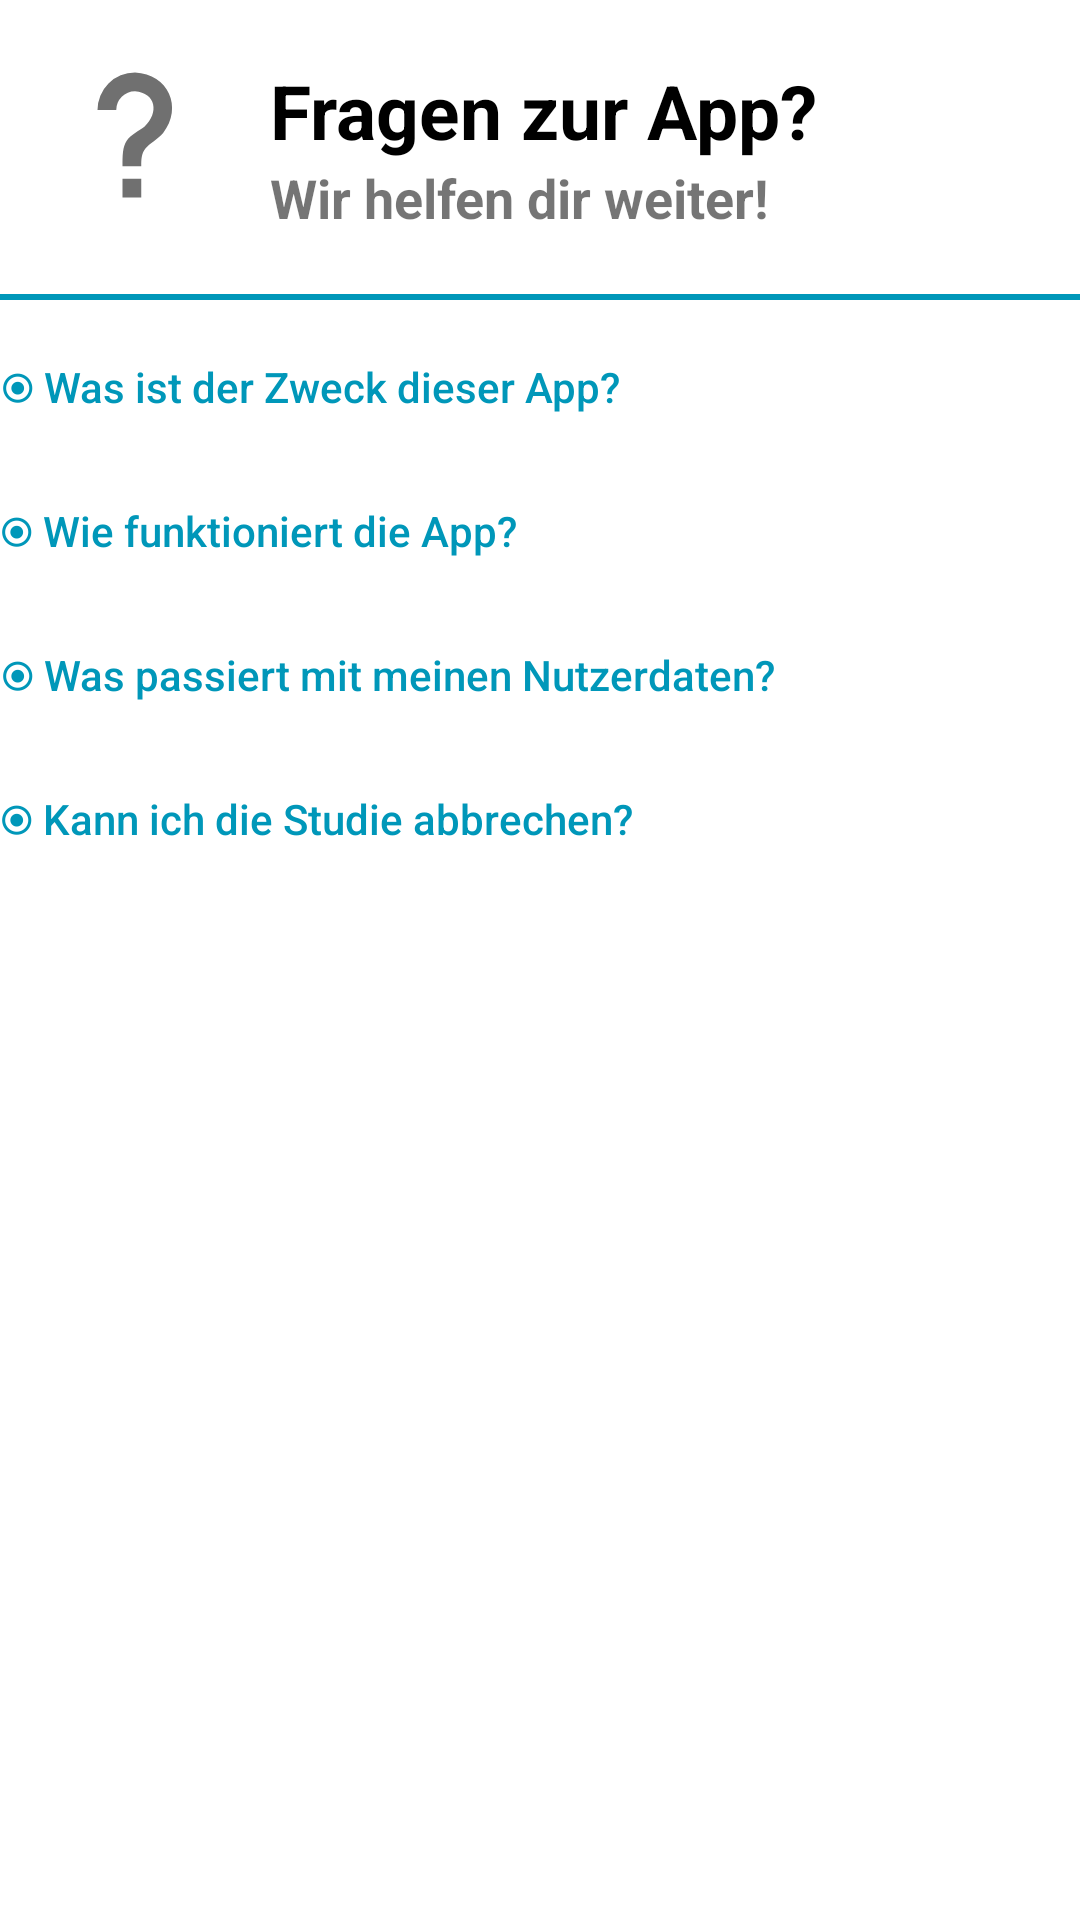

Icons on this 1080w x 1920h Android screen, each with the point to tap as point (x, y):
help: point (134, 135)
